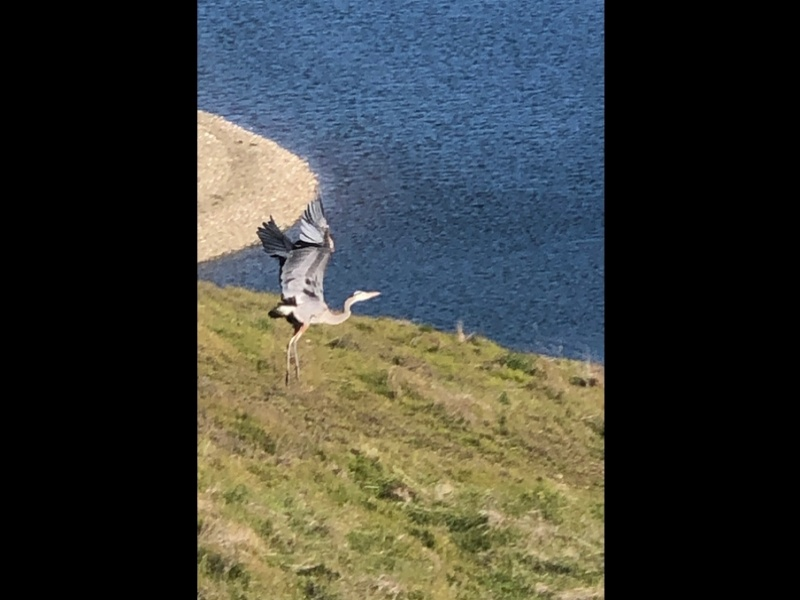heron: (260, 200, 382, 394)
